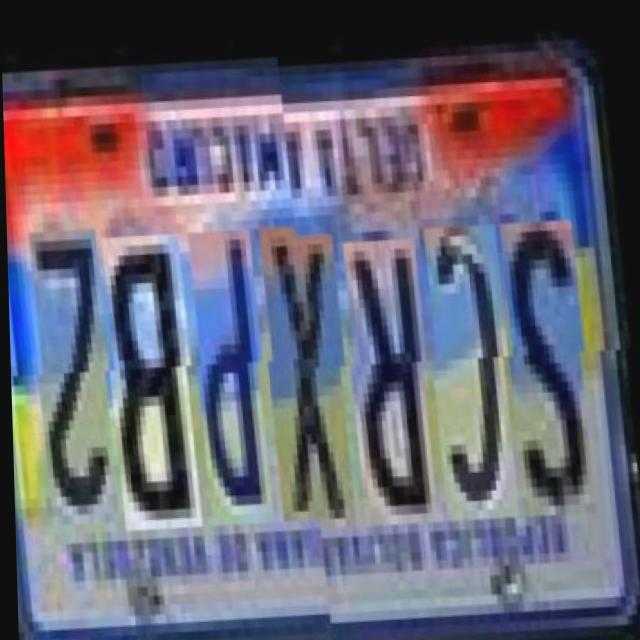2: (29, 217, 119, 516)
b: (102, 221, 202, 522)
c: (423, 207, 519, 507)
p: (188, 219, 273, 517)
r: (341, 220, 437, 511)
s: (500, 204, 595, 503)
x: (259, 214, 355, 515)
